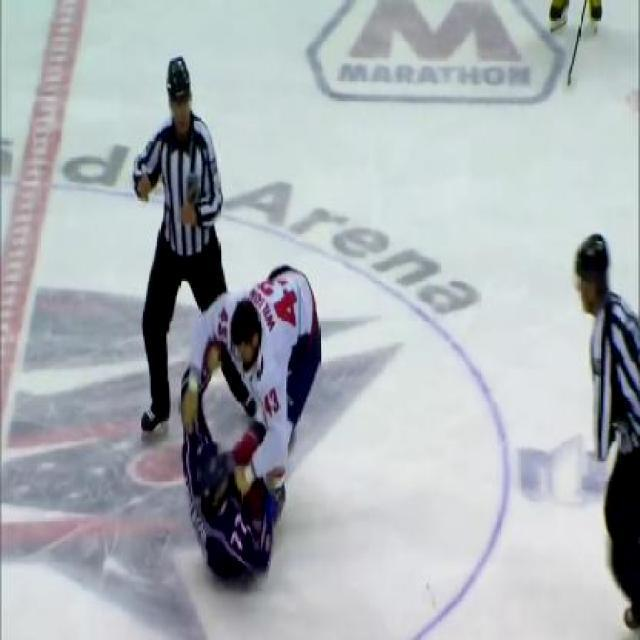fight: (180, 264, 326, 582)
